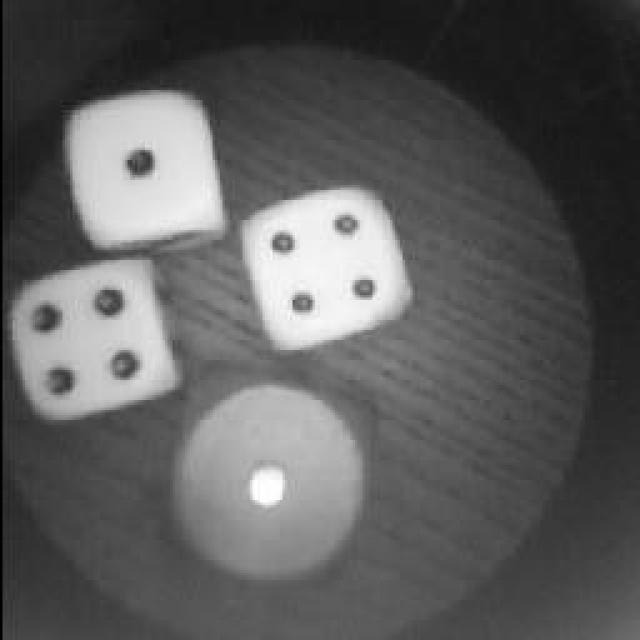dice_1: (152, 375, 378, 593), (58, 90, 222, 255)
dice_4: (5, 248, 177, 420), (238, 187, 408, 355)
